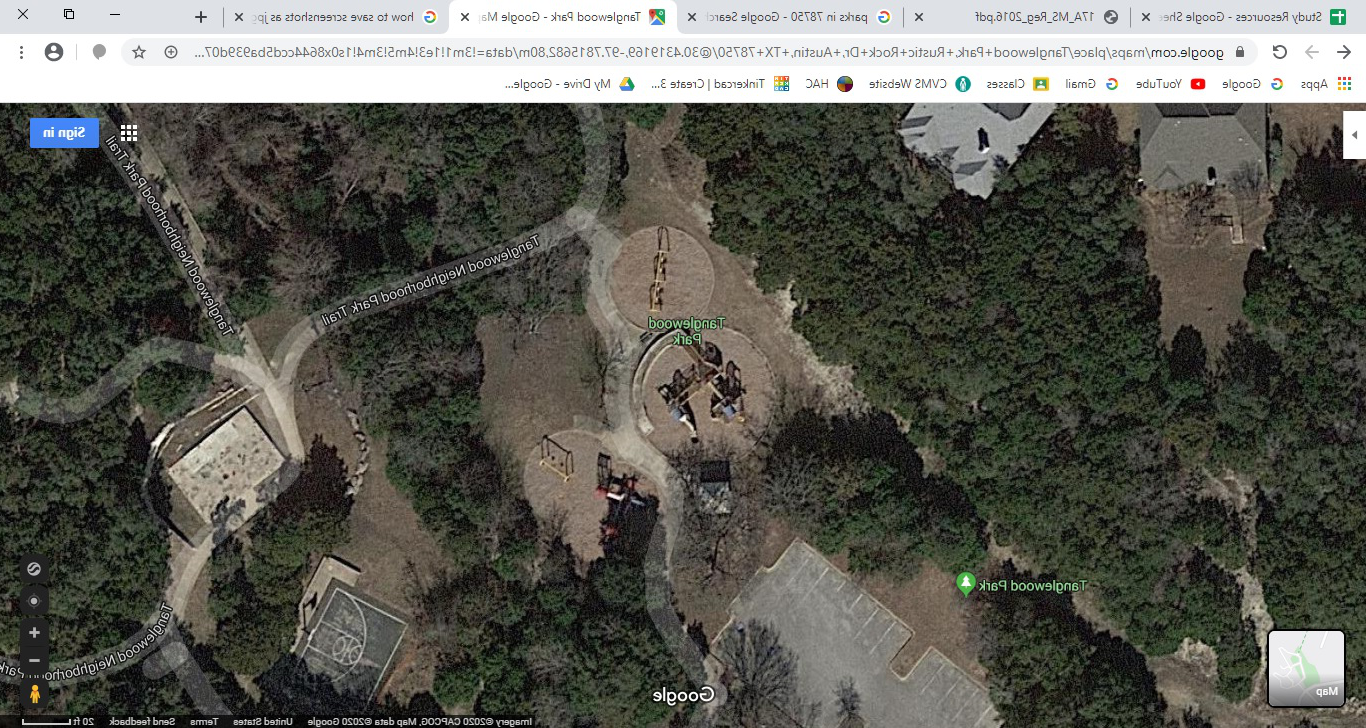basketball: (269, 569, 485, 694)
playscape: (594, 309, 818, 485)
